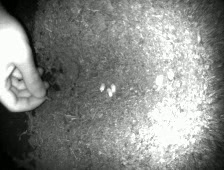corn: (153, 72, 165, 87), (109, 82, 118, 95), (105, 86, 114, 97), (98, 81, 106, 93)
